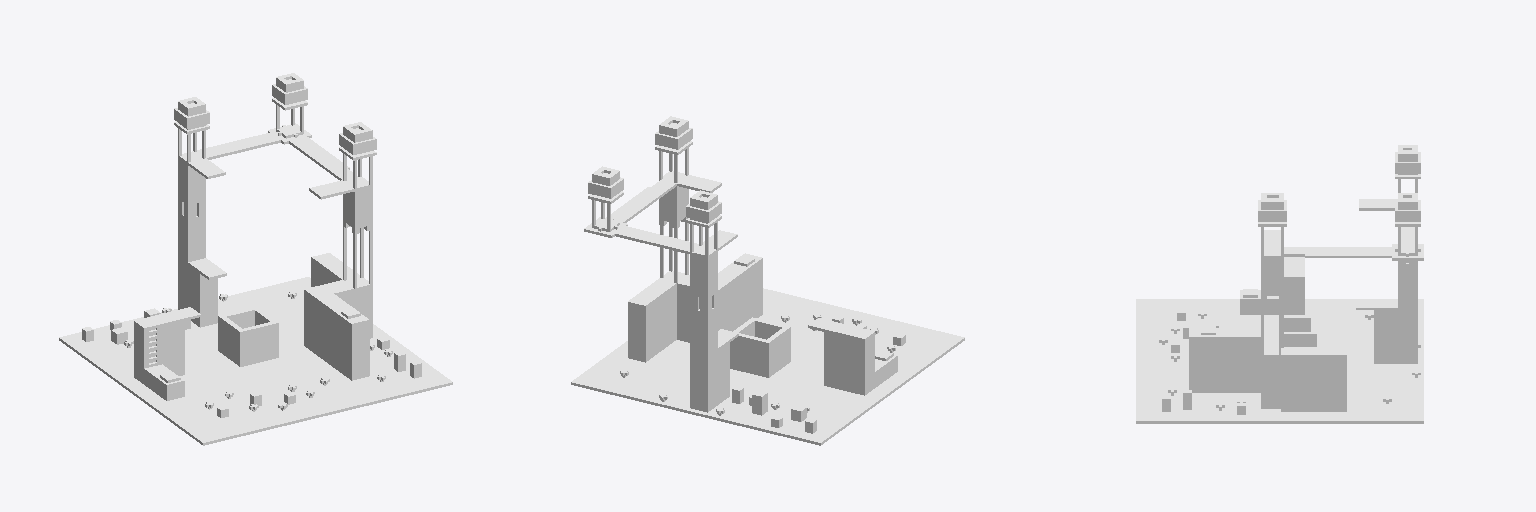
File: monu9-illusion.obj
3 renders of one model, left to right at view 1: azimuth 30°, elevation 25°; view 2: azimuth 150°, elevation 25°; view 3: azimuth 270°, elevation 25°, orthographic.
Size of the model in its own units: 97 by 79 by 97.